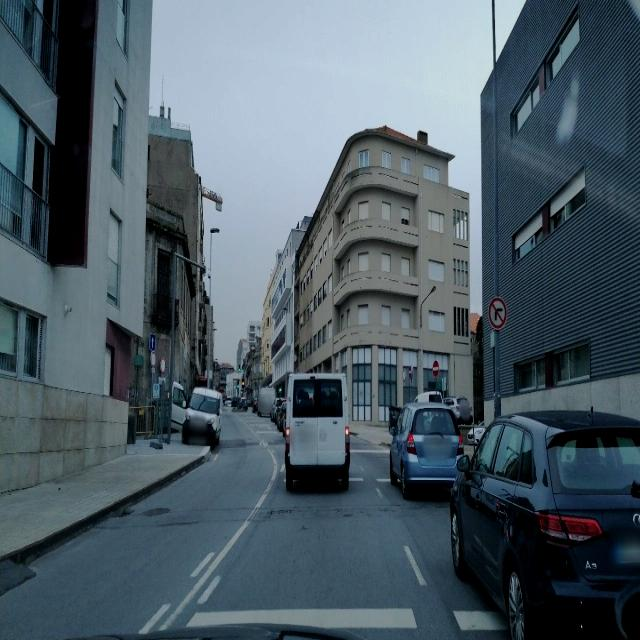car: (449, 405, 640, 638), (284, 370, 350, 492), (389, 397, 463, 499), (181, 387, 221, 448), (444, 394, 472, 426), (277, 400, 287, 434), (270, 398, 280, 422)
